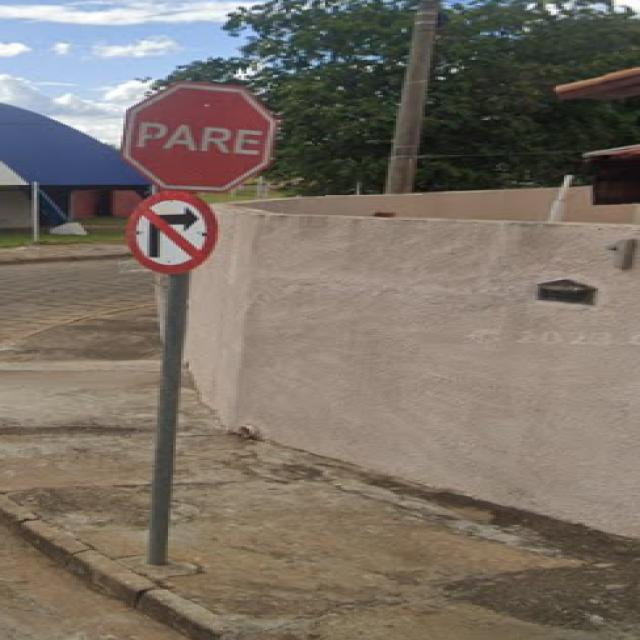stop: (88, 57, 334, 198)
